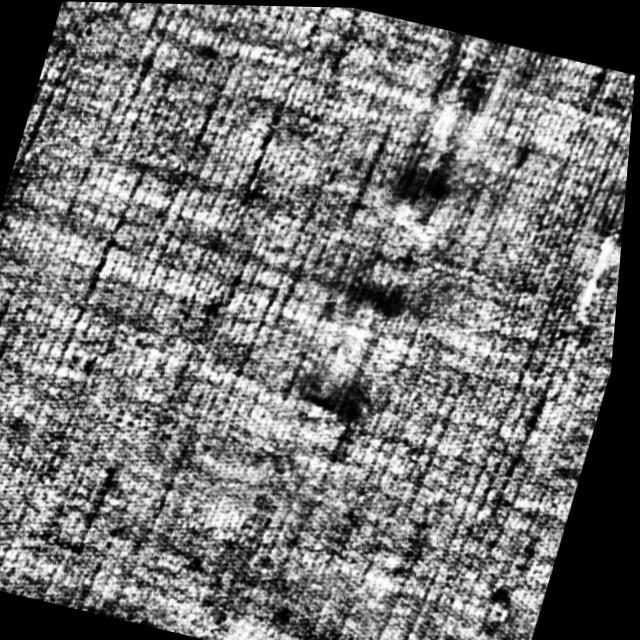Stitch: (278, 13, 518, 446), (569, 204, 628, 325)
